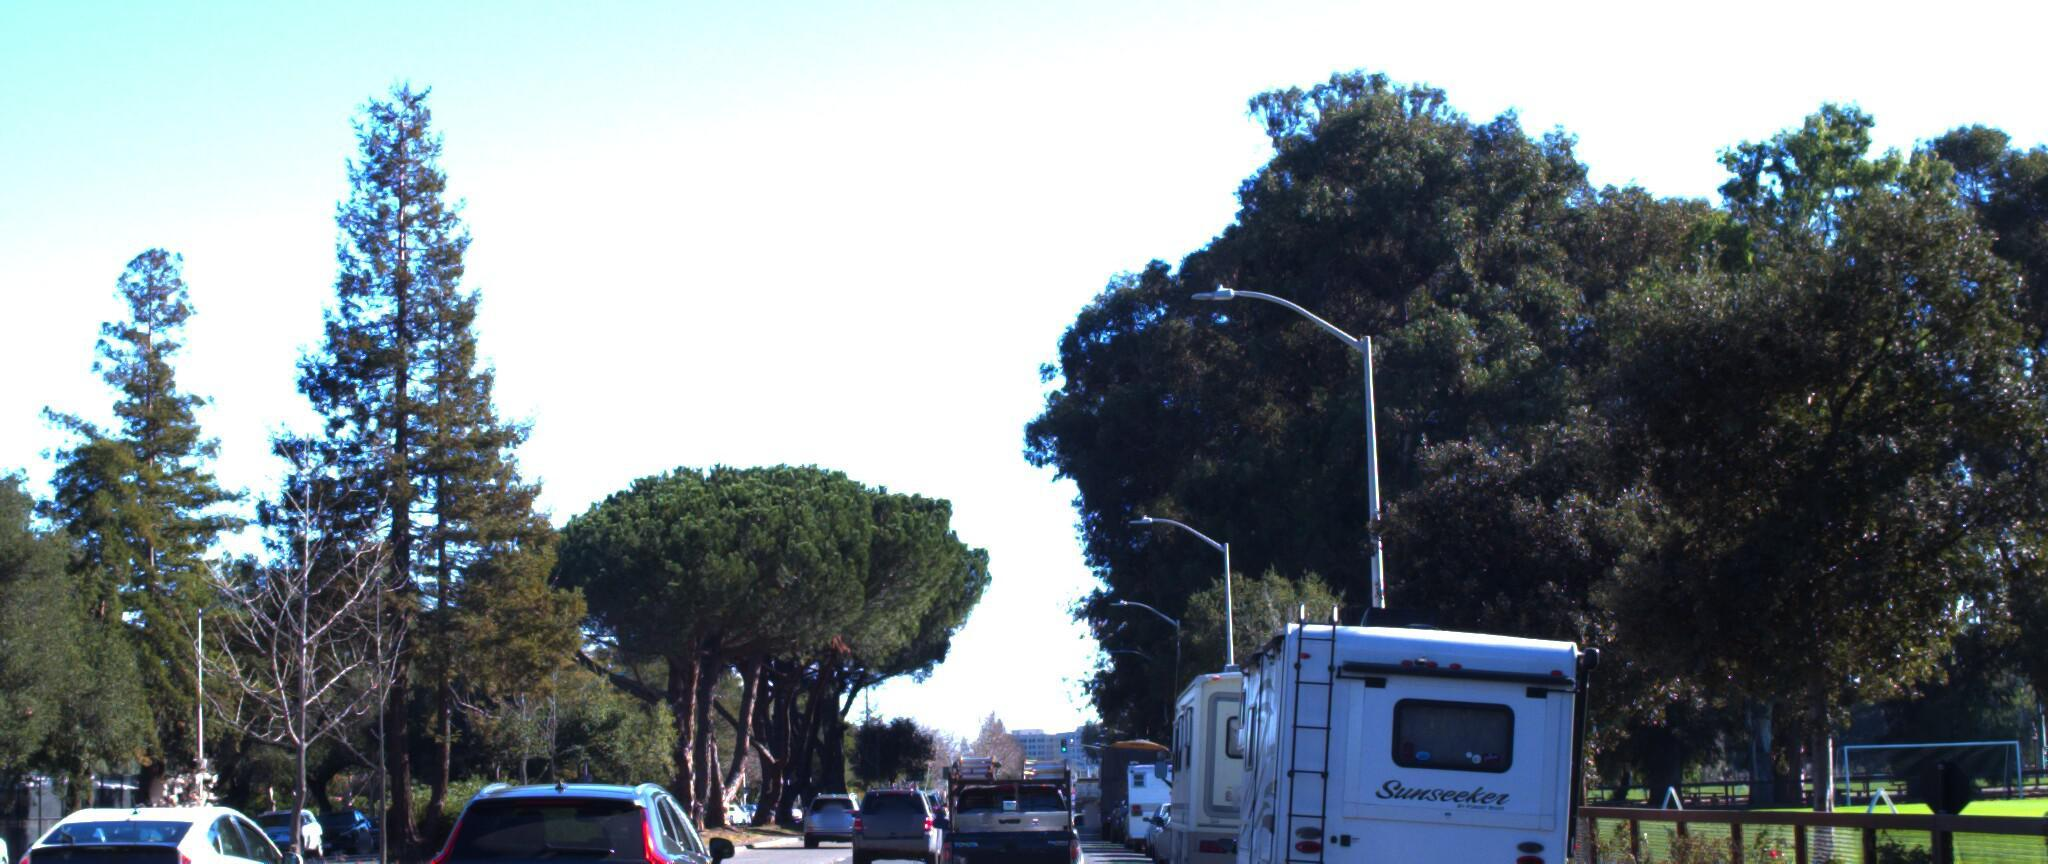car: (405, 761, 738, 864), (0, 777, 332, 864), (914, 726, 1104, 864), (840, 773, 943, 864), (0, 810, 10, 864)
other_vehicle: (1221, 594, 1616, 864), (1145, 646, 1408, 864)
